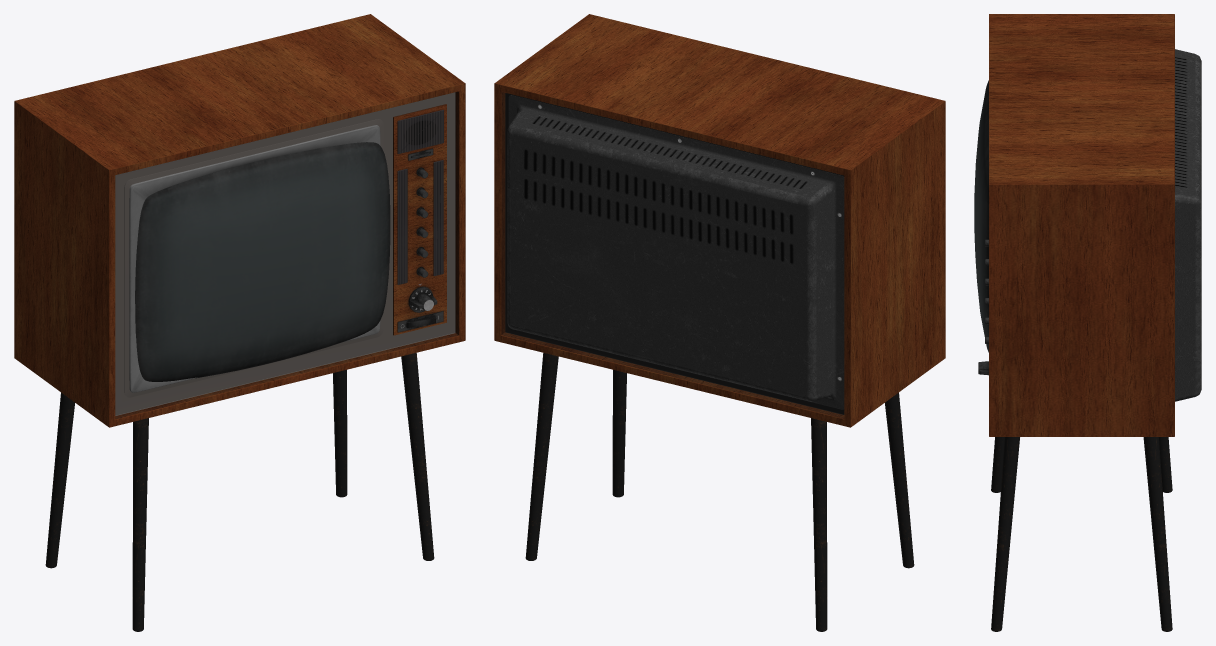
File: retro-tv.glb
3 views of the same model, side by side, from view 1: azimuth 30°, elevation 25°; view 2: azimuth 150°, elevation 25°; view 3: azimuth 270°, elevation 25° (orthographic). The views are drawn at different scales.
Parts seen in each view (by area): view 1: TV, Cube001_1; view 2: TV; view 3: TV, Cube001_1.
Part boxes in pixels (x1,y1,x2,y2): TV: (14,14,465,631); Cube001_1: (135,142,390,381); TV: (494,14,945,631); TV: (985,14,1201,631); Cube001_1: (974,80,988,352).
Bounding box in the file's own units: 4.4 × 5.54 × 2.48.
2 materials, 2 textured.
